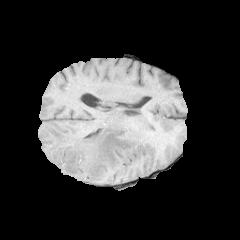glioma: (46, 126, 140, 180)
